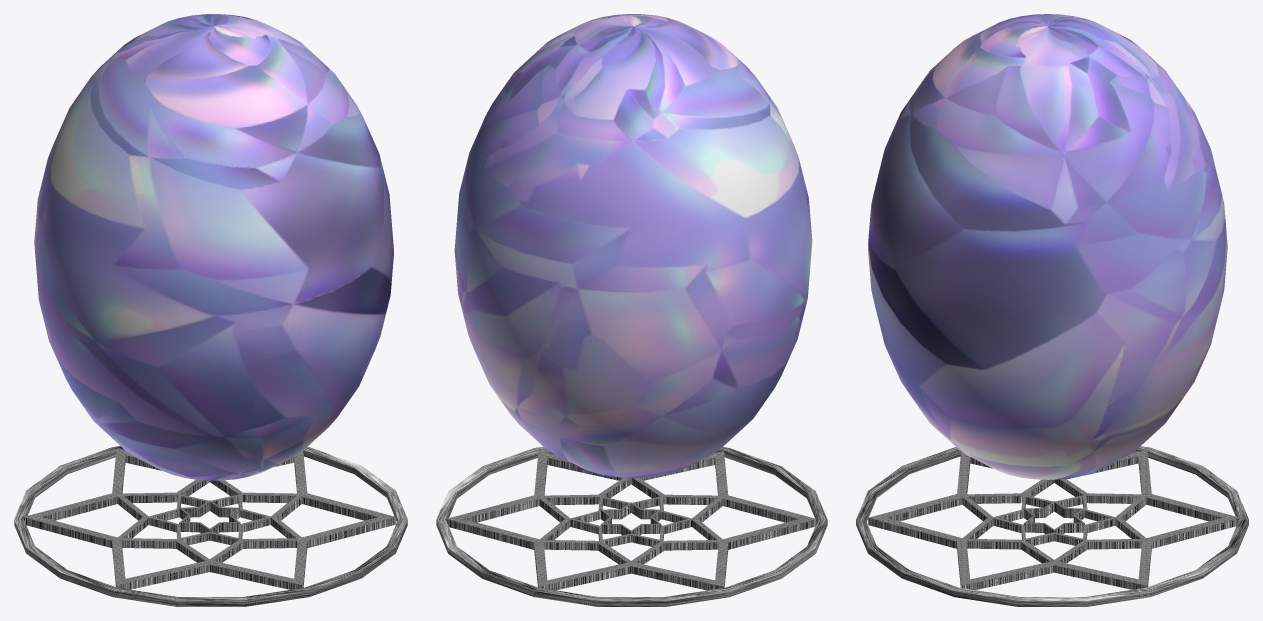
File: PORTAL.FBX
3 views of the same model, side by side, from view 1: azimuth 30°, elevation 25°; view 2: azimuth 150°, elevation 25°; view 3: azimuth 270°, elevation 25° (orthographic).
Visible parts, largest first — view 1: Sphere001, Tube001; view 2: Sphere001, Tube001; view 3: Sphere001, Tube001.
Boxes of the visible parts, left/top/right/bottom form: Sphere001: left=34, top=14, right=393, bottom=480; Tube001: left=14, top=446, right=407, bottom=606; Sphere001: left=454, top=14, right=812, bottom=477; Tube001: left=436, top=446, right=827, bottom=606; Sphere001: left=868, top=14, right=1227, bottom=479; Tube001: left=856, top=446, right=1248, bottom=606.
Bounding box in the file's own units: 16.88 × 24.05 × 17.14.
Materials: 2 (2 with a texture image).
